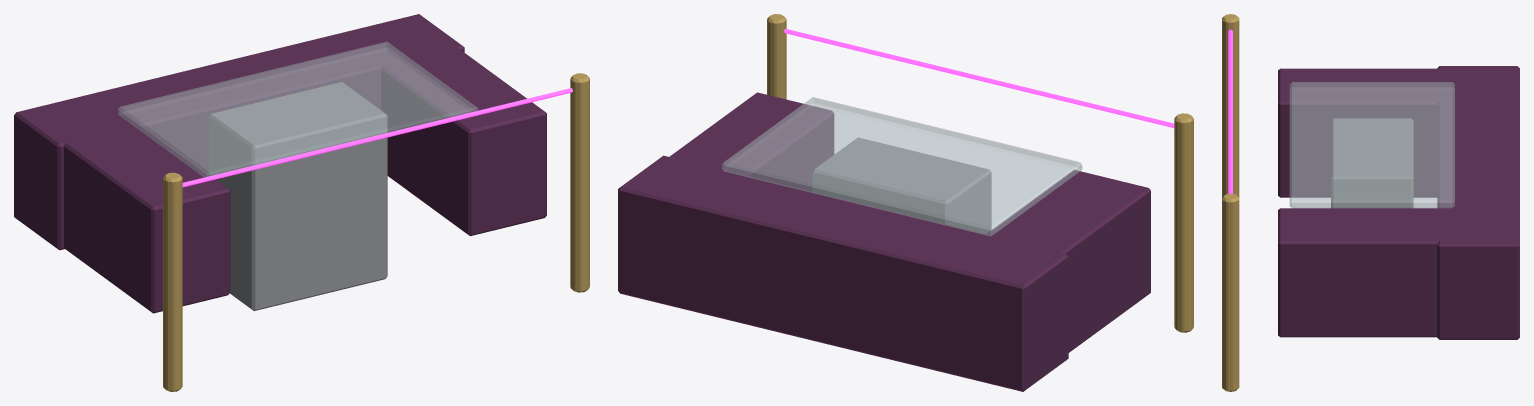
Rendered from PRP_Booth_NCL_v001.glb.
The picture shows the model from 3 angles, left to right: view 1: azimuth 30°, elevation 25°; view 2: azimuth 150°, elevation 25°; view 3: azimuth 270°, elevation 25°; orthographic projection. The views are drawn at different scales.
Visible parts, largest first — view 1: PRP_Booth_NCL_v001; view 2: PRP_Booth_NCL_v001; view 3: PRP_Booth_NCL_v001.
Boxes of the visible parts, x1=… form: PRP_Booth_NCL_v001: x1=14, y1=14, x2=589, y2=391; PRP_Booth_NCL_v001: x1=618, y1=14, x2=1193, y2=391; PRP_Booth_NCL_v001: x1=1222, y1=14, x2=1519, y2=391.
Size of the model in its own units: 1.87 by 0.9 by 1.26.
